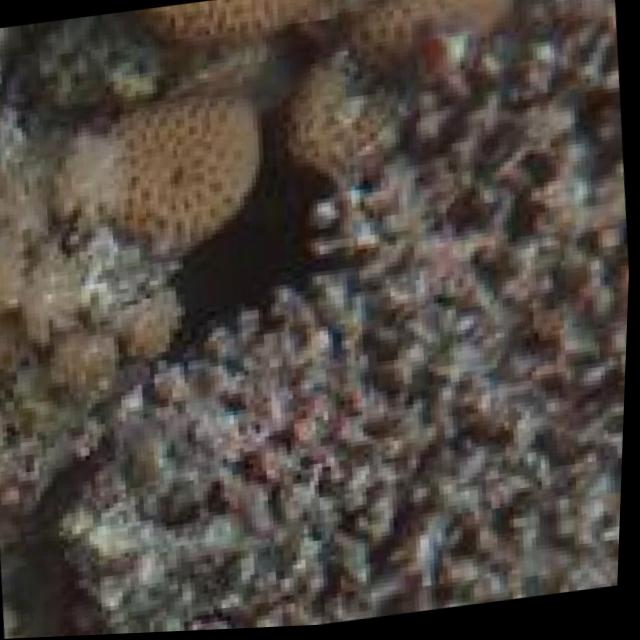Healthy Coral: (55, 0, 535, 269)
